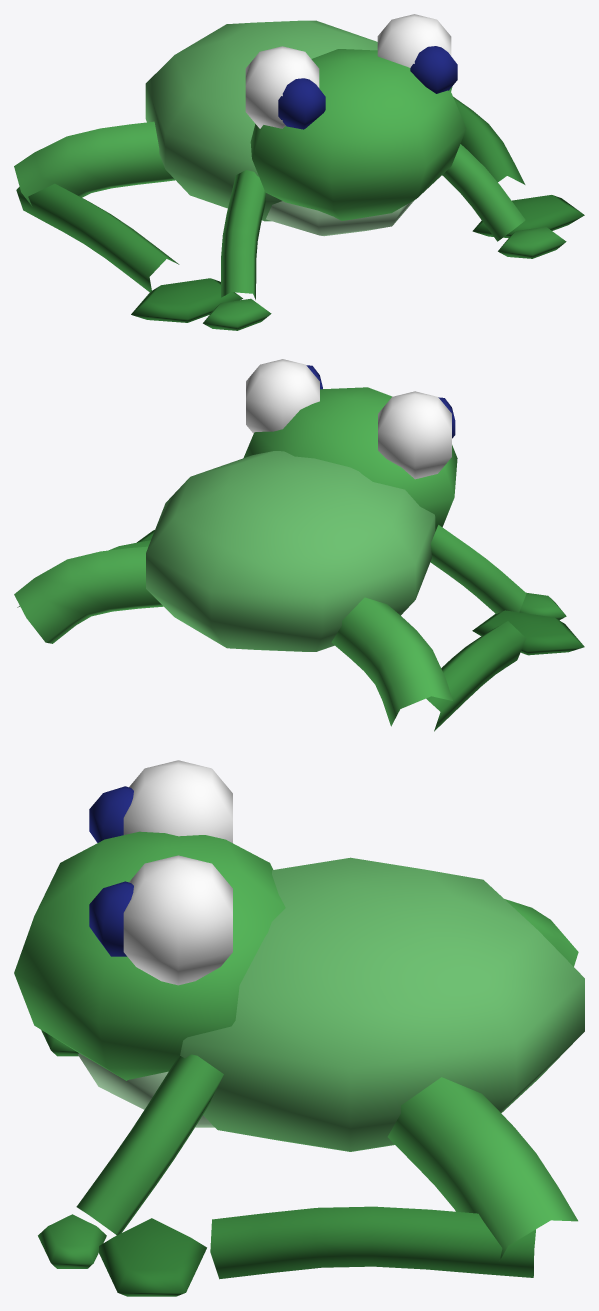
Rendered from katak.glb.
3 renders of one model, top to bottom at view 1: azimuth 30°, elevation 25°; view 2: azimuth 150°, elevation 25°; view 3: azimuth 270°, elevation 25°, orthographic. The views are drawn at different scales.
Size of the model in its own units: 1.14 by 0.572 by 0.862.
